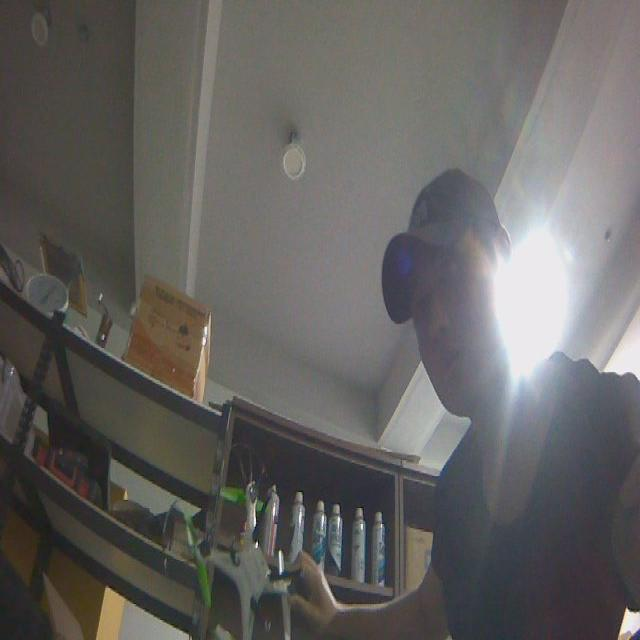drone: (162, 436, 312, 640)
